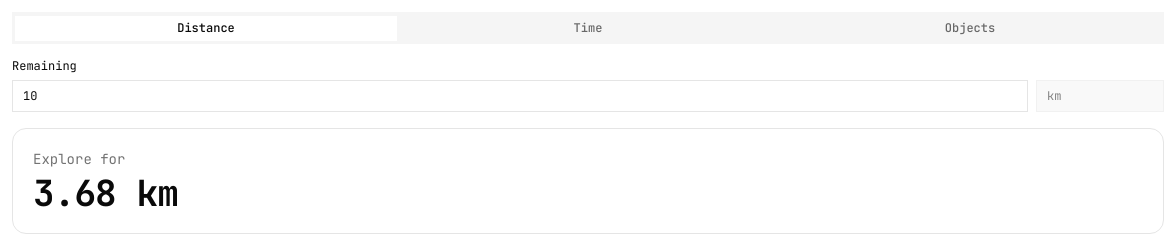
Test case: StopCalculator › should show the stopping time when time mode is selected
Click the tab "Time".
click(588, 28)  # box [397, 16, 779, 40]
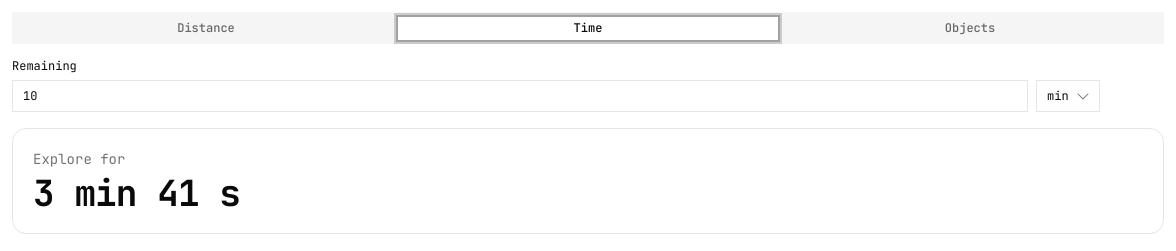
expect the text "3 min 41 s" is shown: met, box [33, 169, 240, 217]
expect the dropdown named "Unit" is shown: met, box [1036, 80, 1100, 112]
